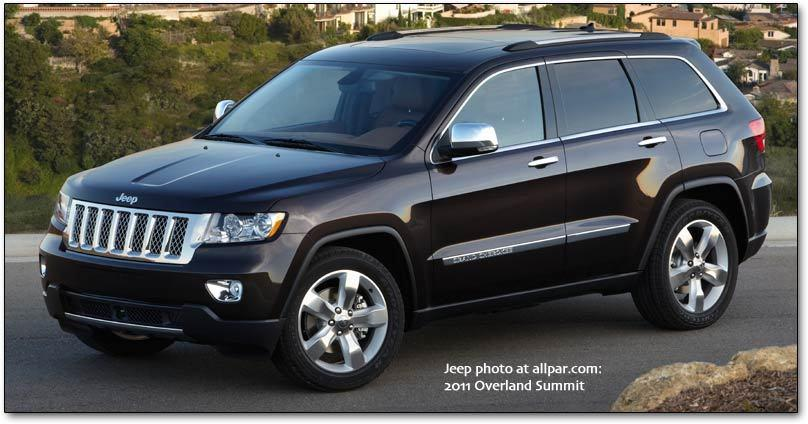jeep: (104, 189, 147, 211)
